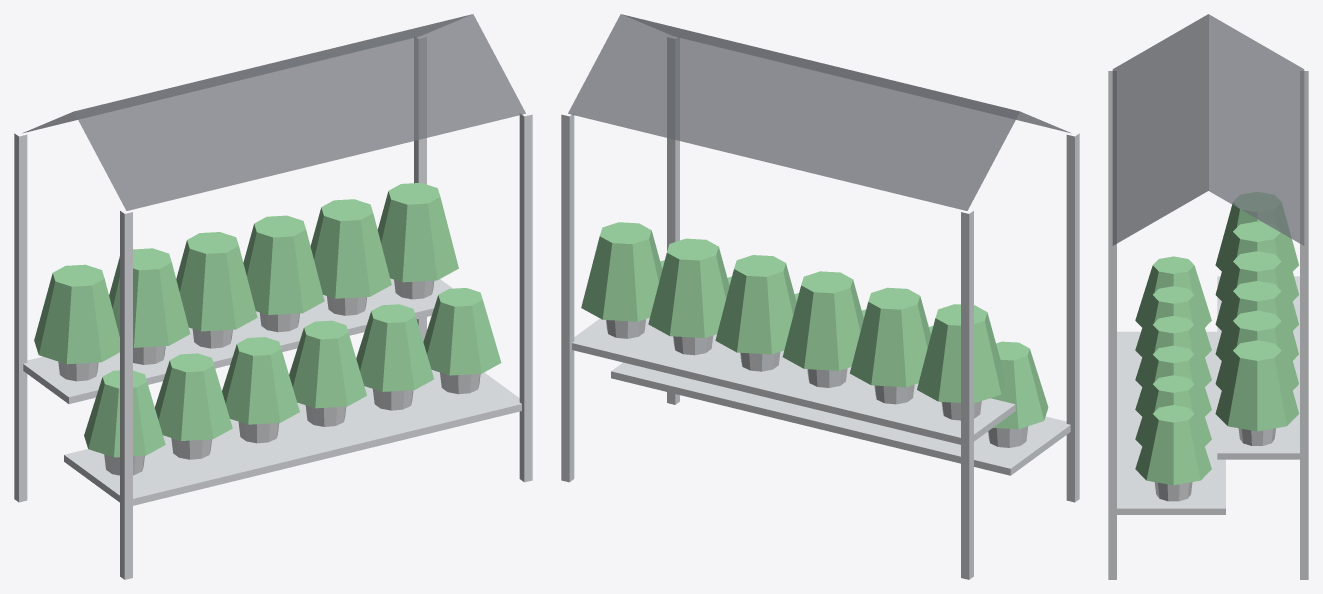
File: rak_bunga_lapangan.glb
The picture shows the model from 3 angles, left to right: view 1: azimuth 30°, elevation 25°; view 2: azimuth 150°, elevation 25°; view 3: azimuth 270°, elevation 25°; orthographic projection. The views are drawn at different scales.
Visible parts, largest first — view 1: Tanaman_Hias_Pot, Rangka_Baja_Ringan_Galvalum, Atap_Paranet_Jaring_Hitam; view 2: Atap_Paranet_Jaring_Hitam, Rangka_Baja_Ringan_Galvalum, Tanaman_Hias_Pot; view 3: Atap_Paranet_Jaring_Hitam, Tanaman_Hias_Pot, Rangka_Baja_Ringan_Galvalum.
Boxes of the visible parts, x1,y1,x2,y2 form: Tanaman_Hias_Pot: (34, 183, 501, 457); Rangka_Baja_Ringan_Galvalum: (14, 37, 532, 579); Atap_Paranet_Jaring_Hitam: (22, 14, 525, 210); Atap_Paranet_Jaring_Hitam: (568, 14, 1071, 210); Rangka_Baja_Ringan_Galvalum: (561, 37, 1079, 579); Tanaman_Hias_Pot: (581, 222, 1048, 429); Atap_Paranet_Jaring_Hitam: (1112, 14, 1304, 245); Tanaman_Hias_Pot: (1135, 192, 1298, 485); Rangka_Baja_Ringan_Galvalum: (1108, 71, 1308, 579).
Size of the model in its own units: 2.5 by 2.45 by 1.15.
